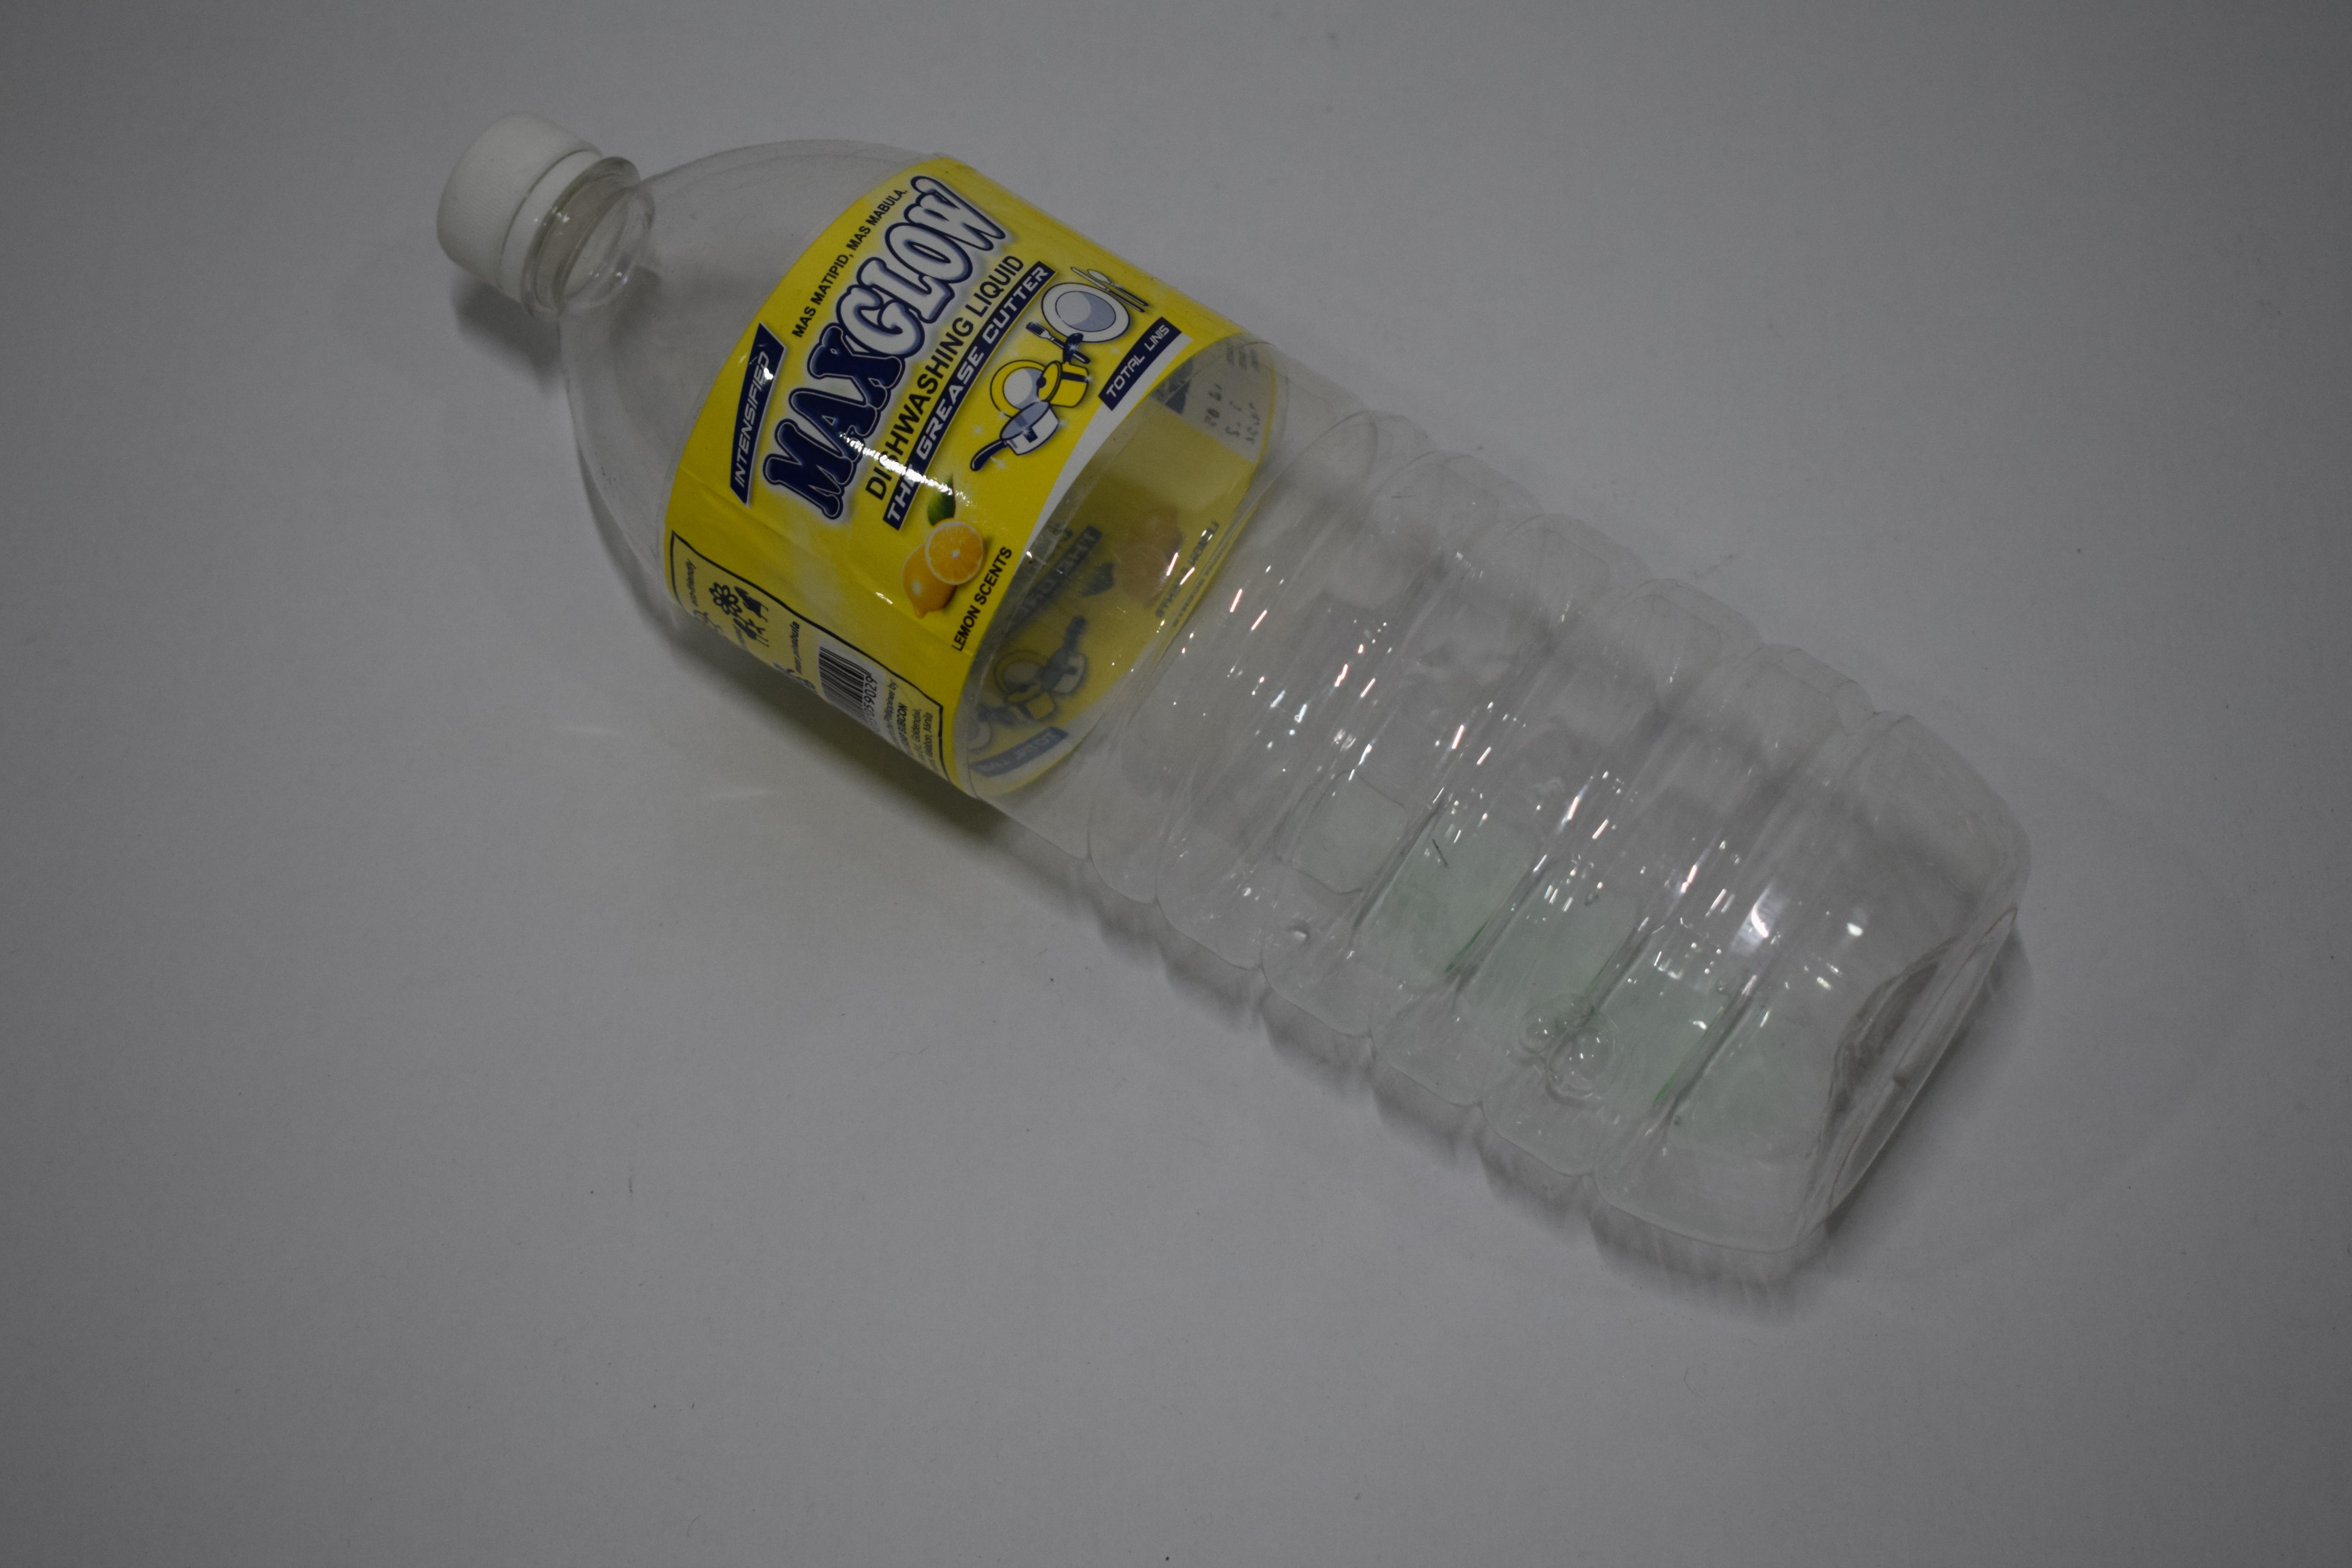bottle: (0, 142, 852, 1243)
